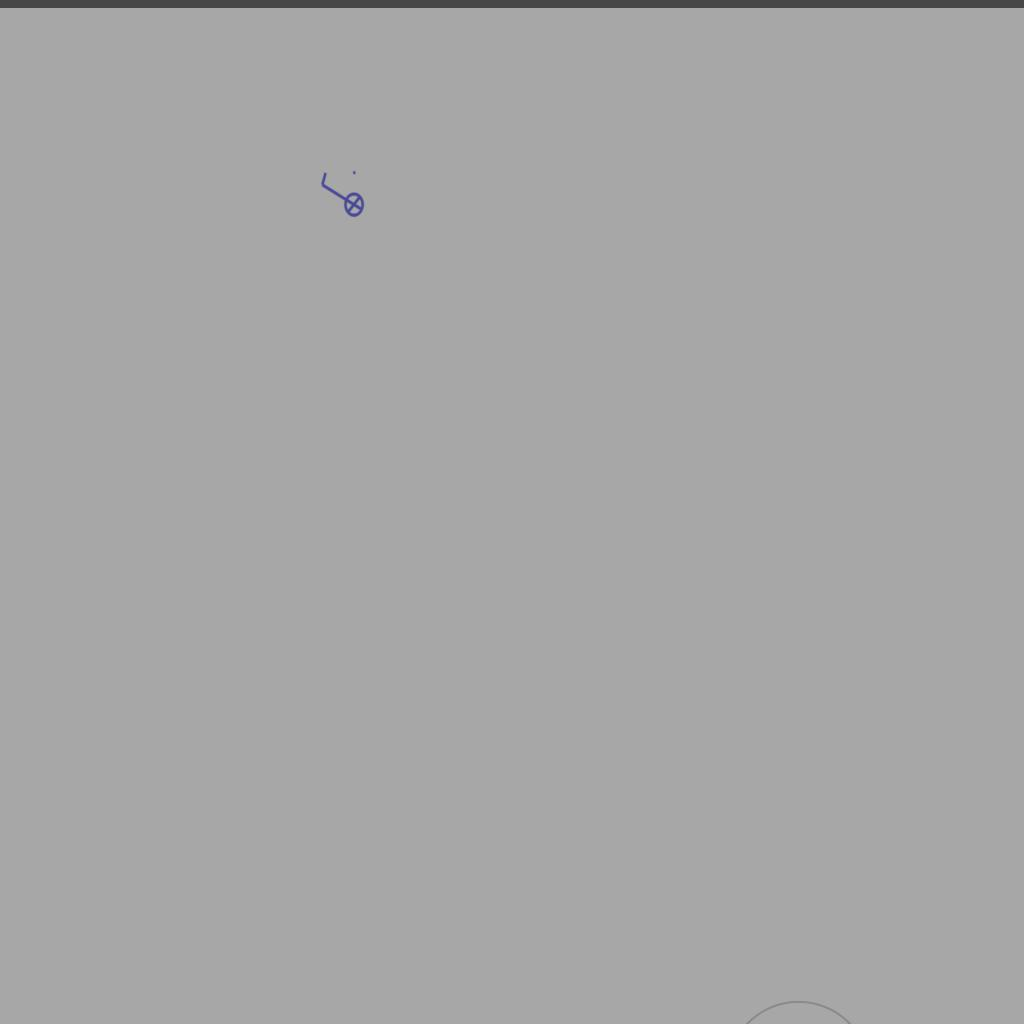Ausschalter_beleuchtet: (317, 168, 365, 224)
